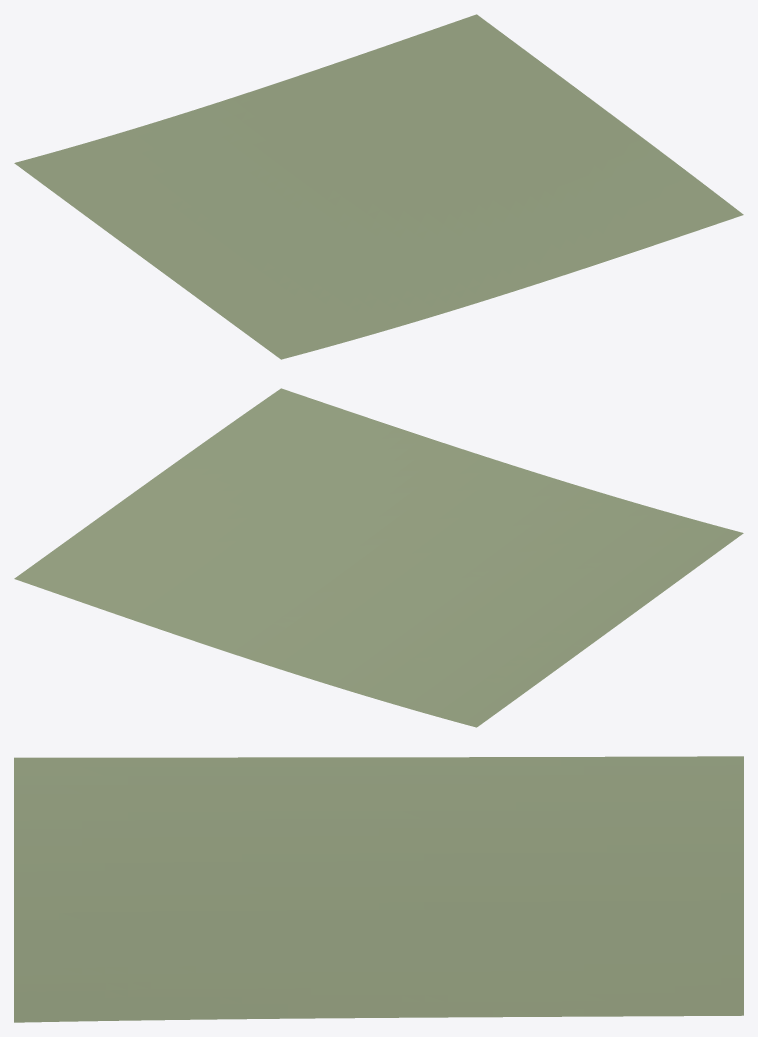
Rendered from valley-9-5.glb.
3 renders of one model, top to bottom at view 1: azimuth 30°, elevation 25°; view 2: azimuth 150°, elevation 25°; view 3: azimuth 270°, elevation 25°, orthographic. The views are drawn at different scales.
Visible parts, largest first — view 1: valley-9-5; view 2: valley-9-5; view 3: valley-9-5.
Boxes of the visible parts, box(x1,y1,x2,y2) form: valley-9-5: box(14, 14, 743, 359); valley-9-5: box(14, 388, 743, 727); valley-9-5: box(14, 756, 743, 1022).
Size of the model in its own units: 256 by 19.5 by 256.
